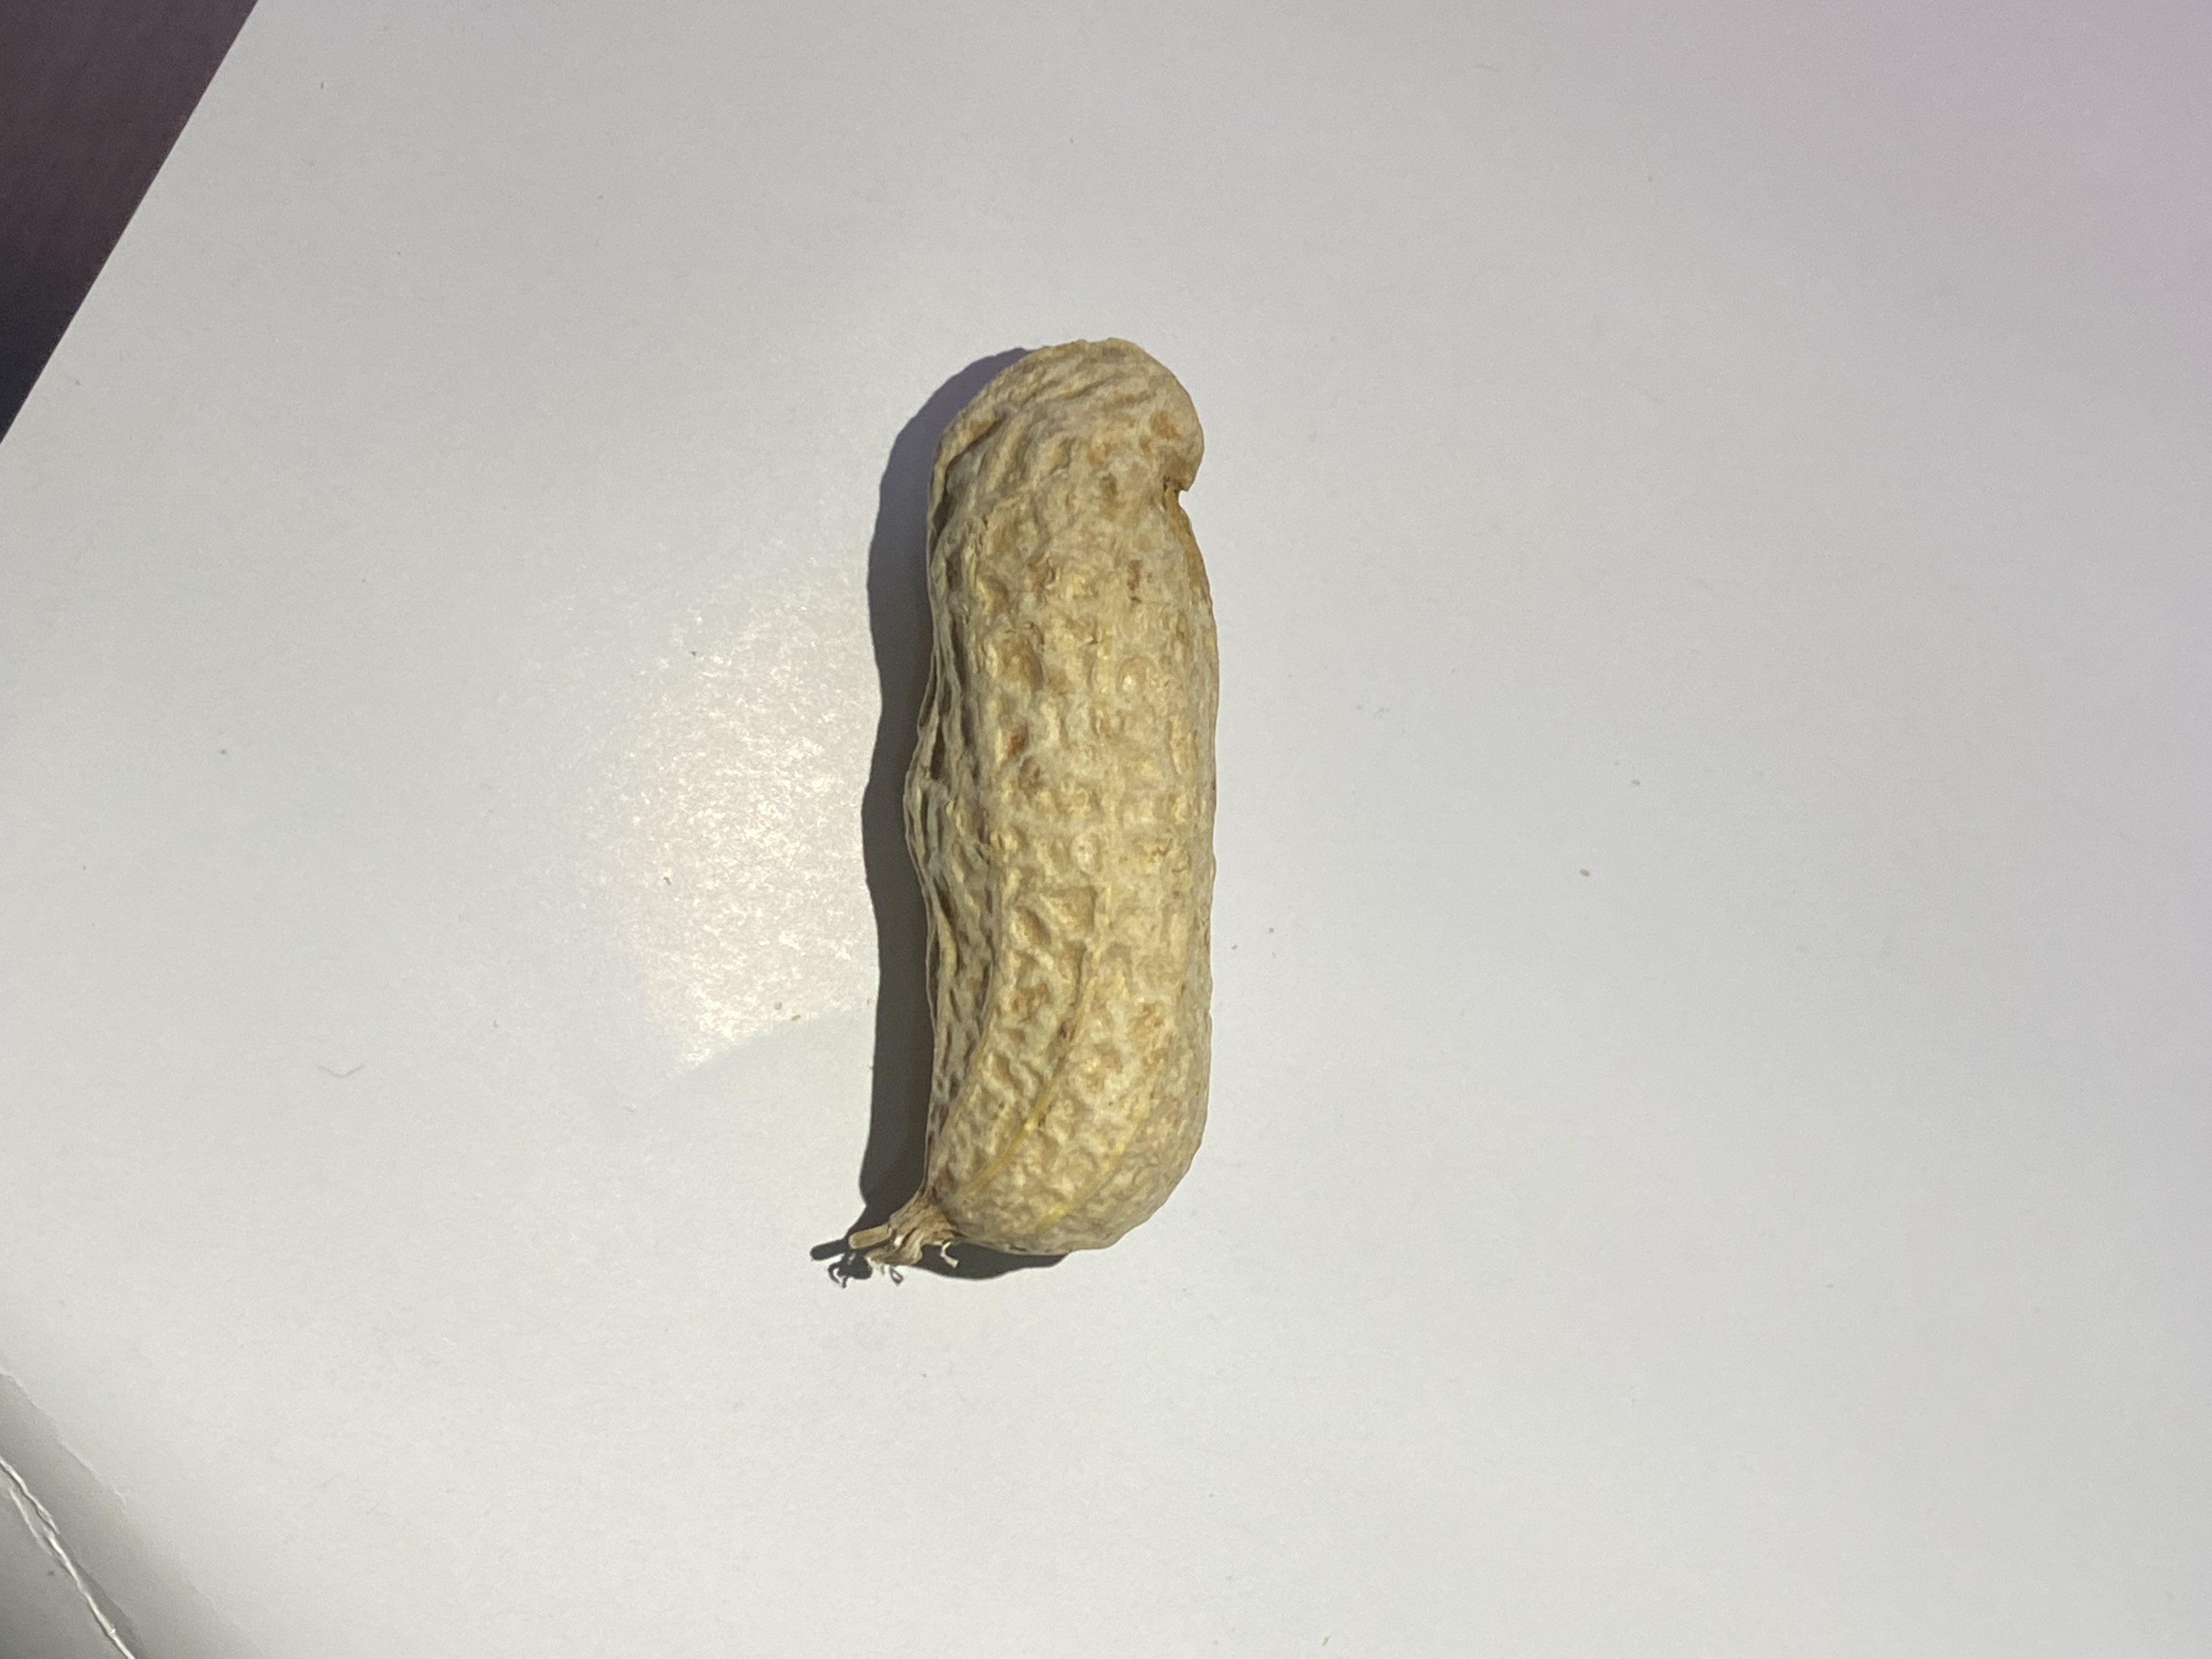kacang3: (815, 328, 1270, 1309)
